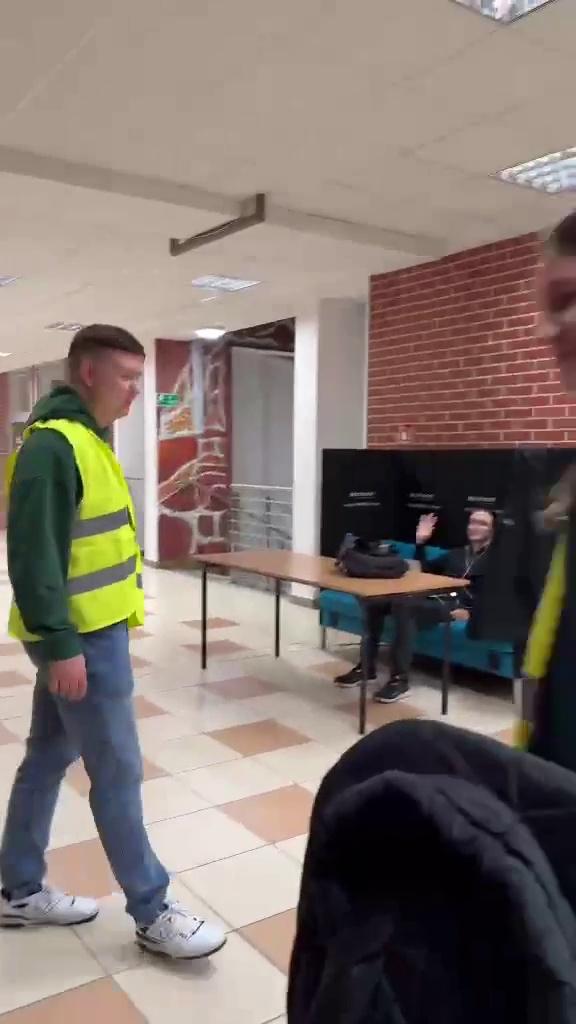no vest: (367, 495, 513, 660)
vest: (0, 324, 230, 973)
